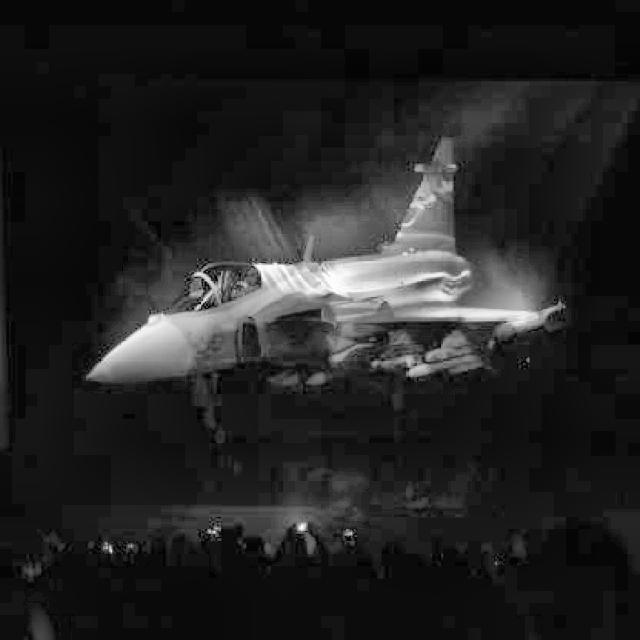JAS39: (85, 138, 573, 450)
